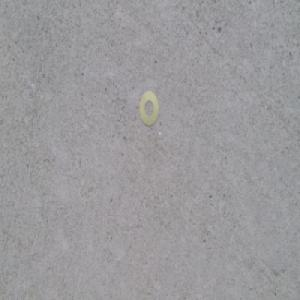Washer: (137, 90, 158, 129)
